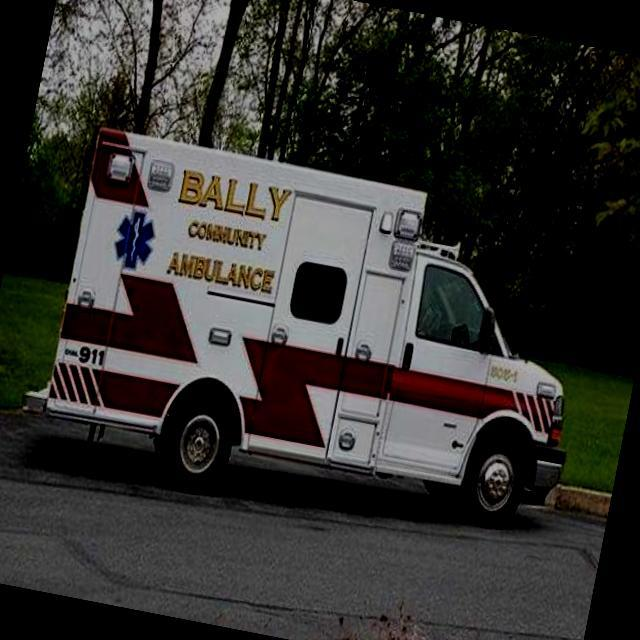emergency-vehicle: (34, 124, 610, 555)
